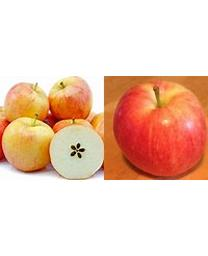apple: (112, 79, 207, 178)
